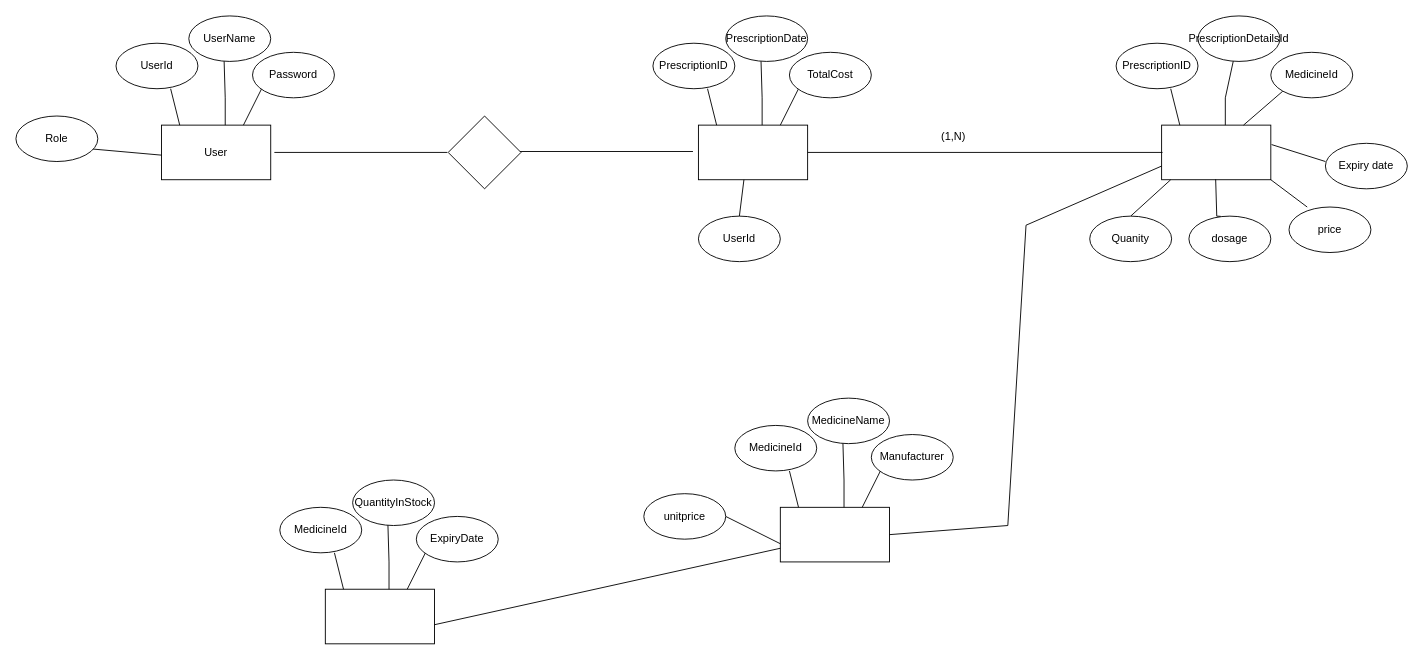
This 1423x660 diagram has some shape labels left out. The centre of each missing label's shape, as x and y in pixels:
"Inventories" belongs at (379,616).
"Made By" belongs at (484,152).
"Medicines" belongs at (834,534).
"Prescriptions" belongs at (753,152).
"PrescriptionsDetails" belongs at (1216,152).
